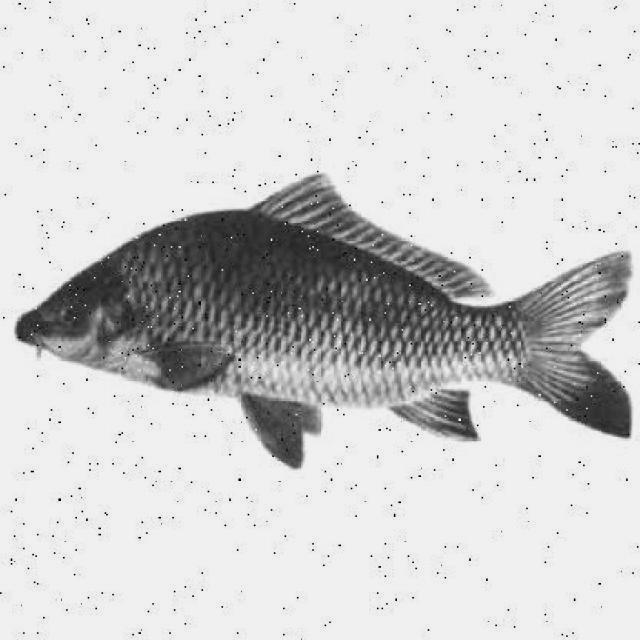ikan-mas: (22, 178, 636, 462)
